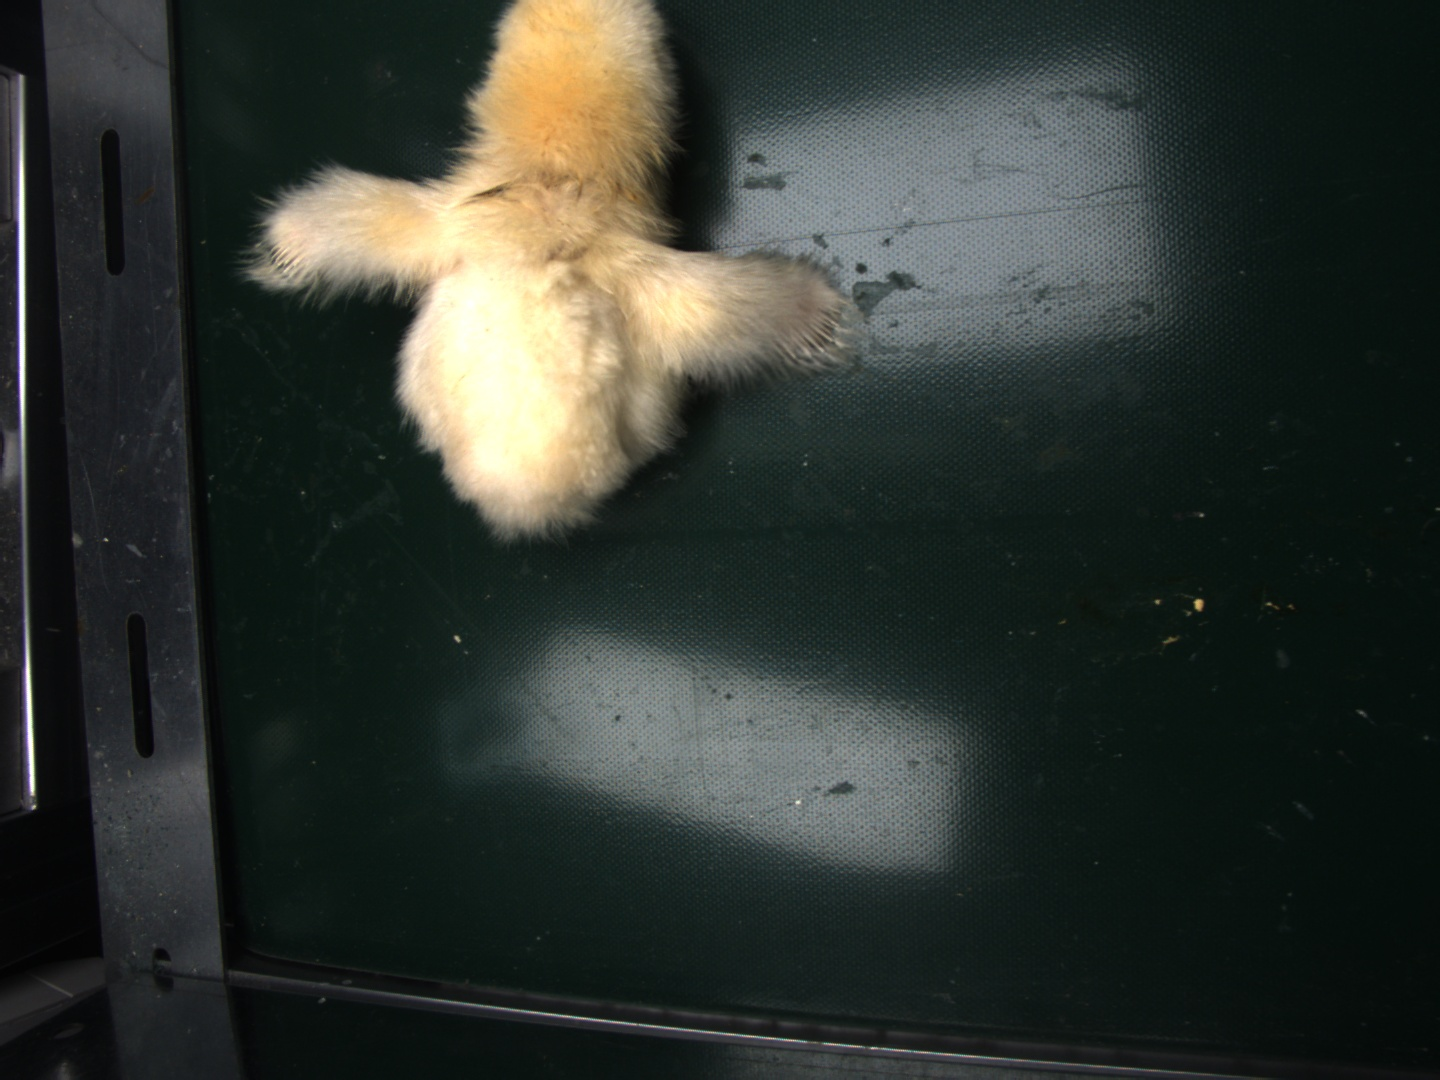male: (786, 302, 848, 361)
